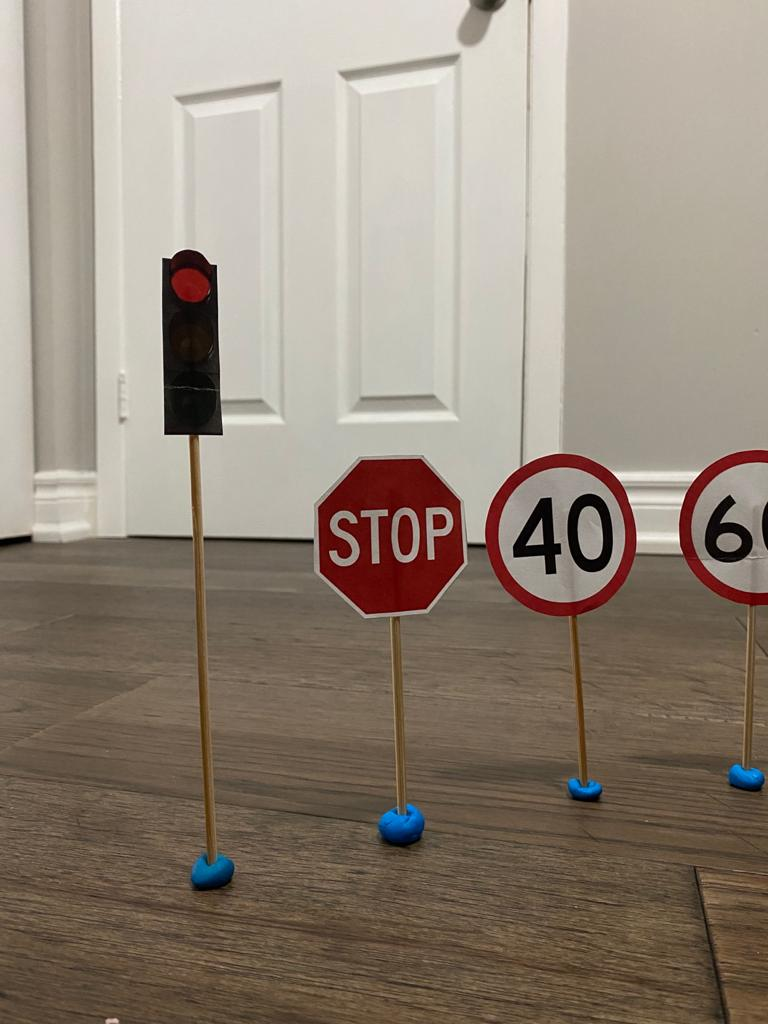Red Traffic Light: (154, 238, 234, 450)
Speed Limit 40: (483, 446, 643, 619)
Stop Sign: (310, 448, 471, 631)
